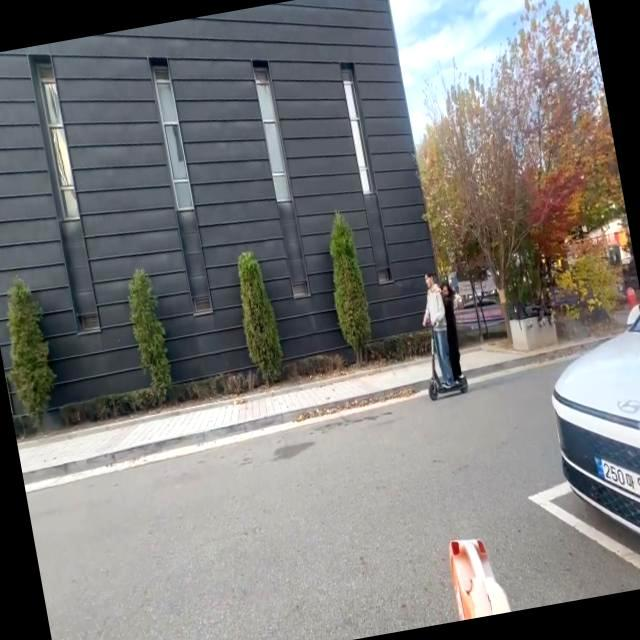bare_head: (437, 277, 452, 297), (423, 271, 438, 290)
human: (420, 271, 454, 387), (438, 280, 464, 381)
kickboard: (427, 373, 470, 402)
